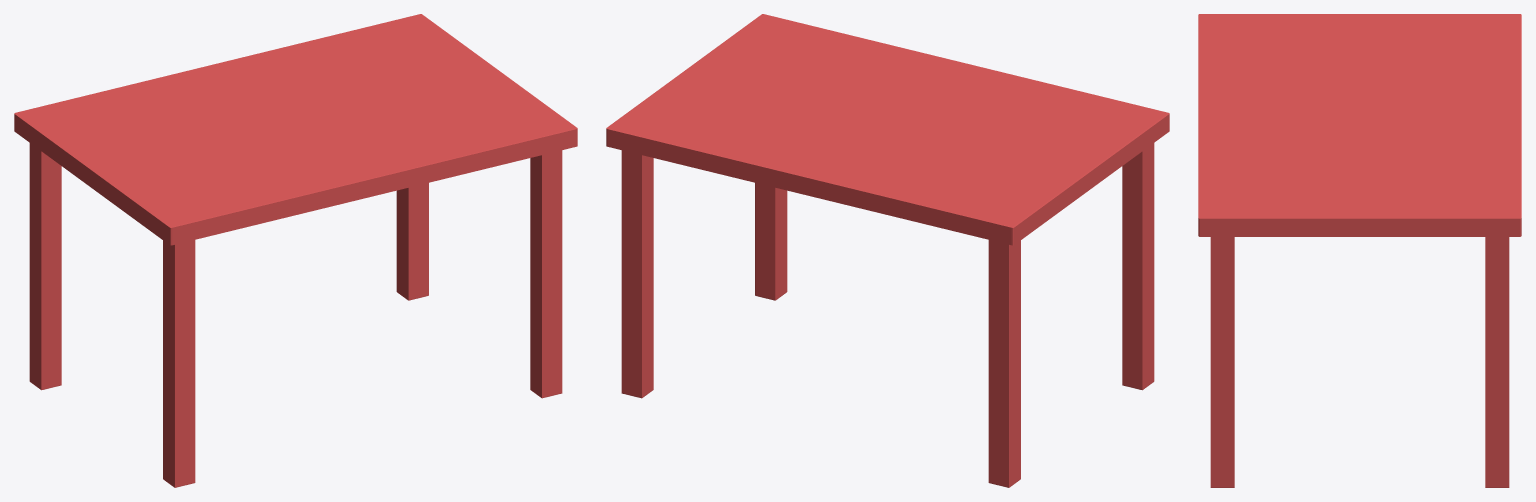
The model's file is red_table.fbx.
3 renders of one model, left to right at view 1: azimuth 30°, elevation 25°; view 2: azimuth 150°, elevation 25°; view 3: azimuth 270°, elevation 25°, orthographic. The views are drawn at different scales.
Visible parts, largest first — view 1: TableTop, LegFrontLeft, LegFrontRight, LegBackLeft, LegBackRight; view 2: TableTop, LegBackLeft, LegBackRight, LegFrontLeft, LegFrontRight; view 3: TableTop, LegBackRight, LegFrontRight.
Part boxes in pixels (x1,y1,x2,y2): TableTop: (14, 14, 577, 245); LegFrontLeft: (163, 240, 195, 487); LegFrontRight: (530, 150, 562, 398); LegBackLeft: (29, 143, 61, 390); LegBackRight: (396, 183, 428, 300); TableTop: (606, 14, 1169, 245); LegBackLeft: (988, 240, 1020, 487); LegBackRight: (621, 150, 653, 398); LegFrontLeft: (1122, 143, 1154, 390); LegFrontRight: (755, 183, 787, 300); TableTop: (1198, 14, 1521, 236); LegBackRight: (1485, 237, 1509, 487); LegFrontRight: (1210, 237, 1234, 487).
Bounding box in the file's own units: 1.2 × 0.75 × 0.8.
